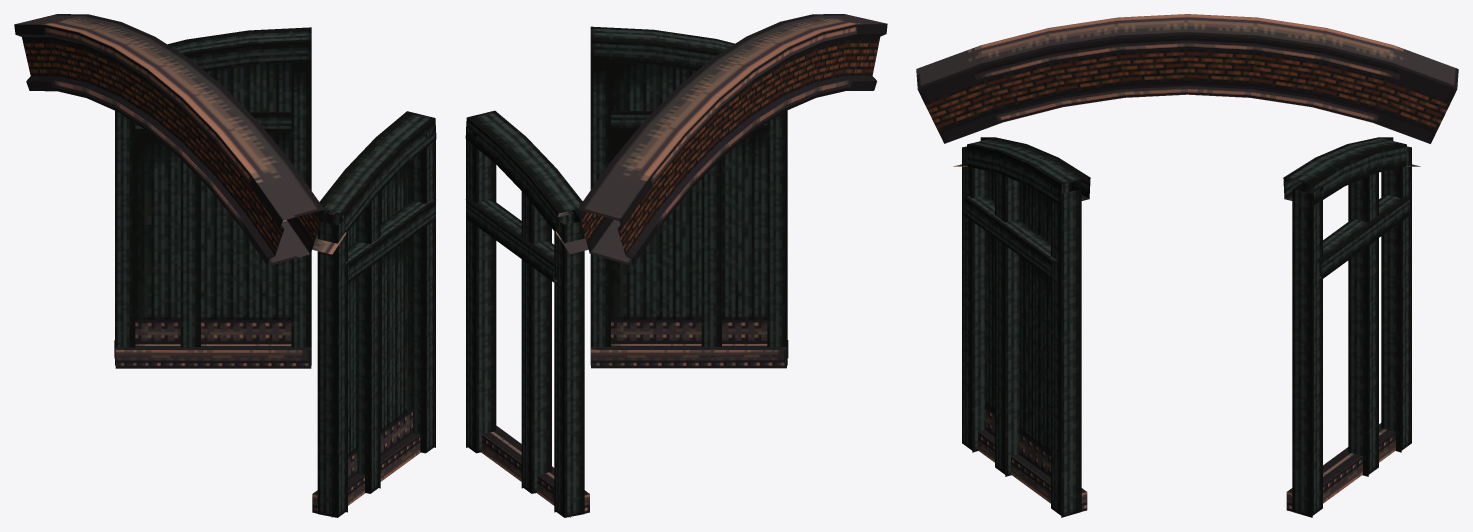
File: EnvBdgMD_Factory_B_Outdoor_Gate_A_Open.FBX
3 renders of one model, left to right at view 1: azimuth 30°, elevation 25°; view 2: azimuth 150°, elevation 25°; view 3: azimuth 270°, elevation 25°, orthographic.
Parts seen in each view (by area): view 1: EnvBdgMD_Factory_B_Outdoor_Gate_A_Open; view 2: EnvBdgMD_Factory_B_Outdoor_Gate_A_Open; view 3: EnvBdgMD_Factory_B_Outdoor_Gate_A_Open.
Part boxes in pixels (x1=…): EnvBdgMD_Factory_B_Outdoor_Gate_A_Open: x1=14, y1=14, x2=436, y2=517; EnvBdgMD_Factory_B_Outdoor_Gate_A_Open: x1=465, y1=14, x2=887, y2=517; EnvBdgMD_Factory_B_Outdoor_Gate_A_Open: x1=916, y1=14, x2=1458, y2=517.
Bounding box in the file's own units: 401 × 654 × 819.
